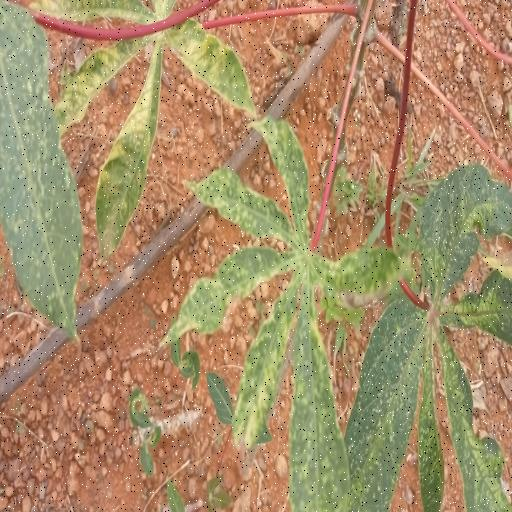Cassava_Mosaic: (159, 114, 415, 512), (334, 161, 512, 512), (24, 0, 257, 262)
